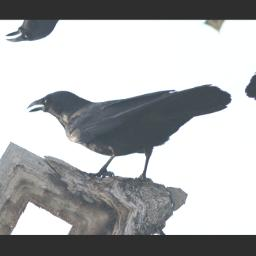Crow: (21, 47, 250, 208)
